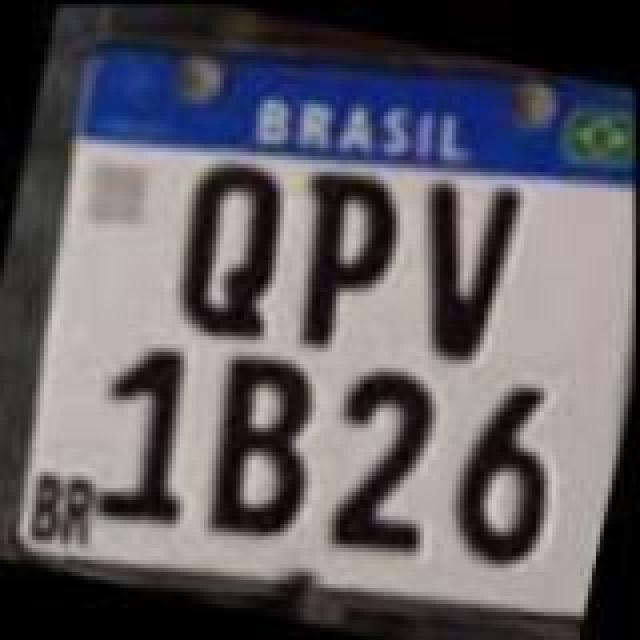1: (74, 332, 222, 532)
2: (306, 354, 462, 562)
6: (440, 368, 576, 572)
B: (186, 340, 334, 548)
P: (278, 160, 418, 360)
Q: (158, 146, 314, 350)
V: (388, 166, 532, 370)
